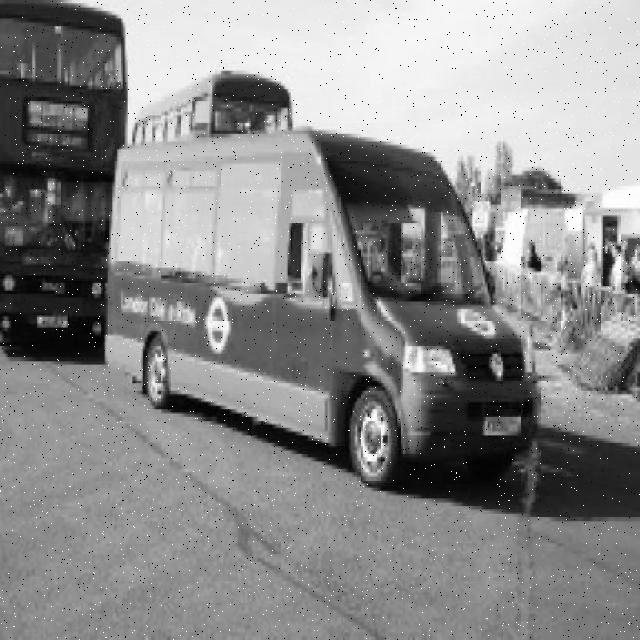Bus- Small: (106, 123, 539, 489)
